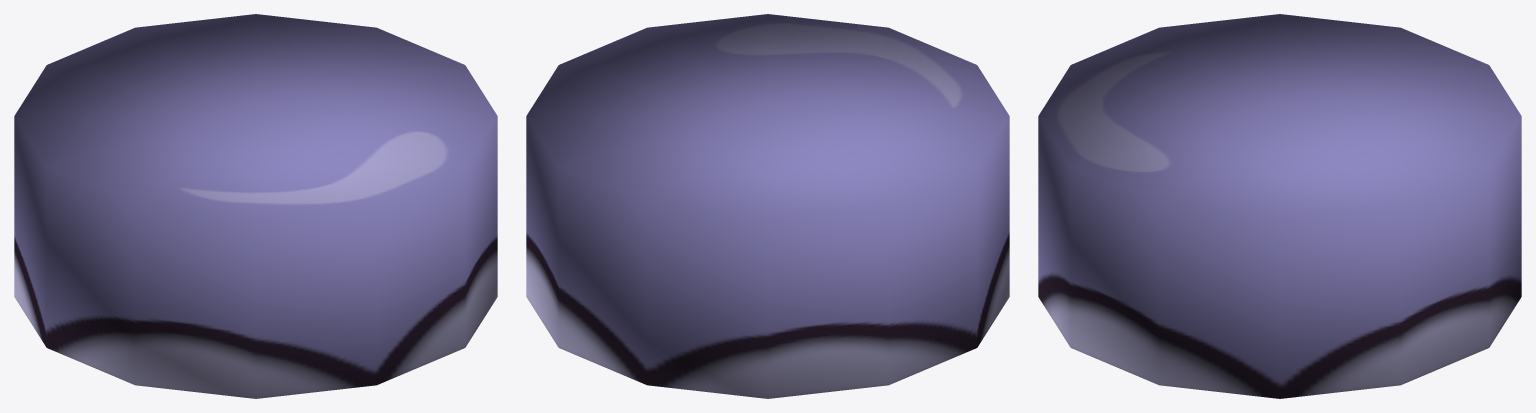
The model's file is table-fancy.fbx.
3 views of the same model, side by side, from view 1: azimuth 30°, elevation 25°; view 2: azimuth 150°, elevation 25°; view 3: azimuth 270°, elevation 25° (orthographic).
Parts seen in each view (by area): view 1: pCylinder1; view 2: pCylinder1; view 3: pCylinder1.
Boxes of the visible parts, x1,y1,x2,y2 form: pCylinder1: (14,14,497,398); pCylinder1: (526,14,1009,398); pCylinder1: (1038,14,1521,398).
Bounding box in the file's own units: 2 × 0.825 × 2.
